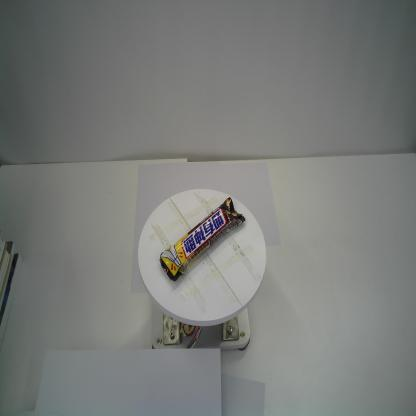Chocolate: (159, 196, 245, 282)
